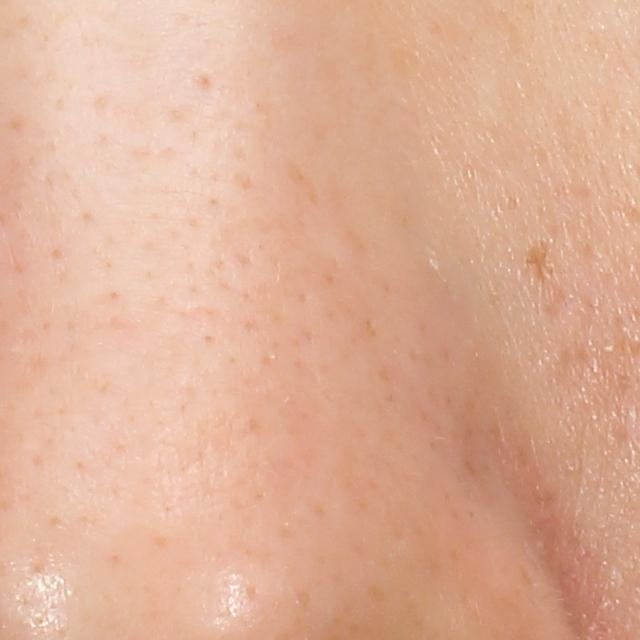melasma: (521, 235, 555, 285)
